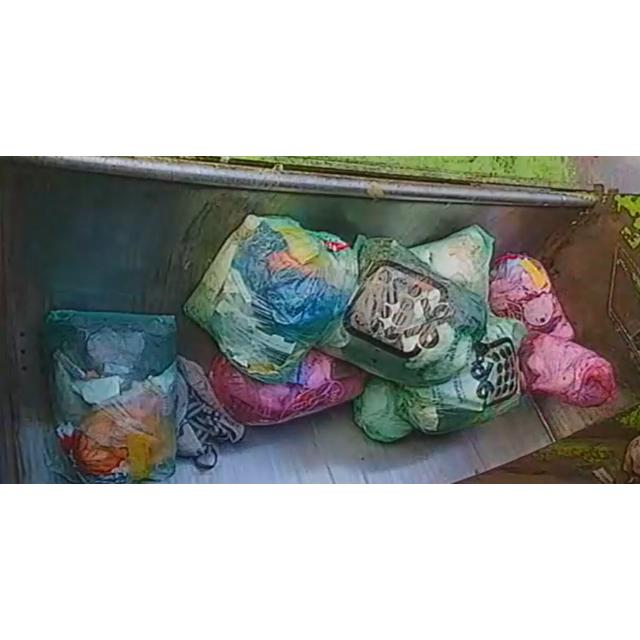general_trashbag: (185, 215, 358, 384), (322, 237, 488, 387), (399, 315, 525, 434), (409, 225, 495, 303)
other_trashbag: (45, 311, 188, 481), (489, 254, 574, 341), (520, 334, 618, 407)
